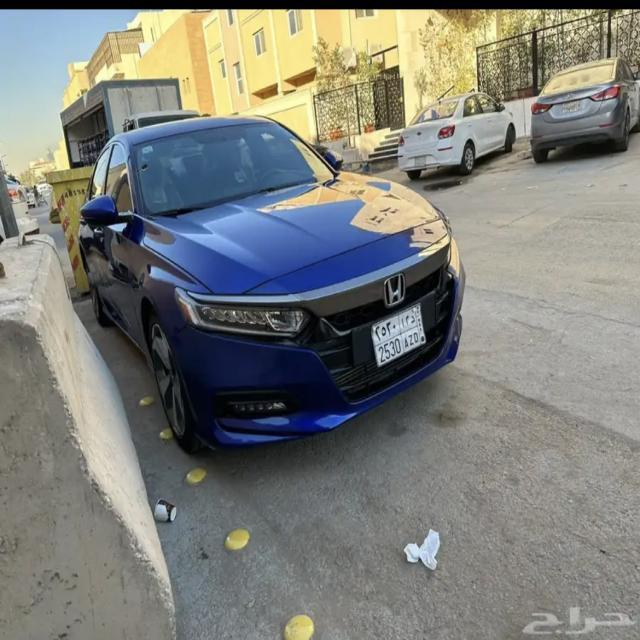license_plate: (373, 302, 433, 368)
